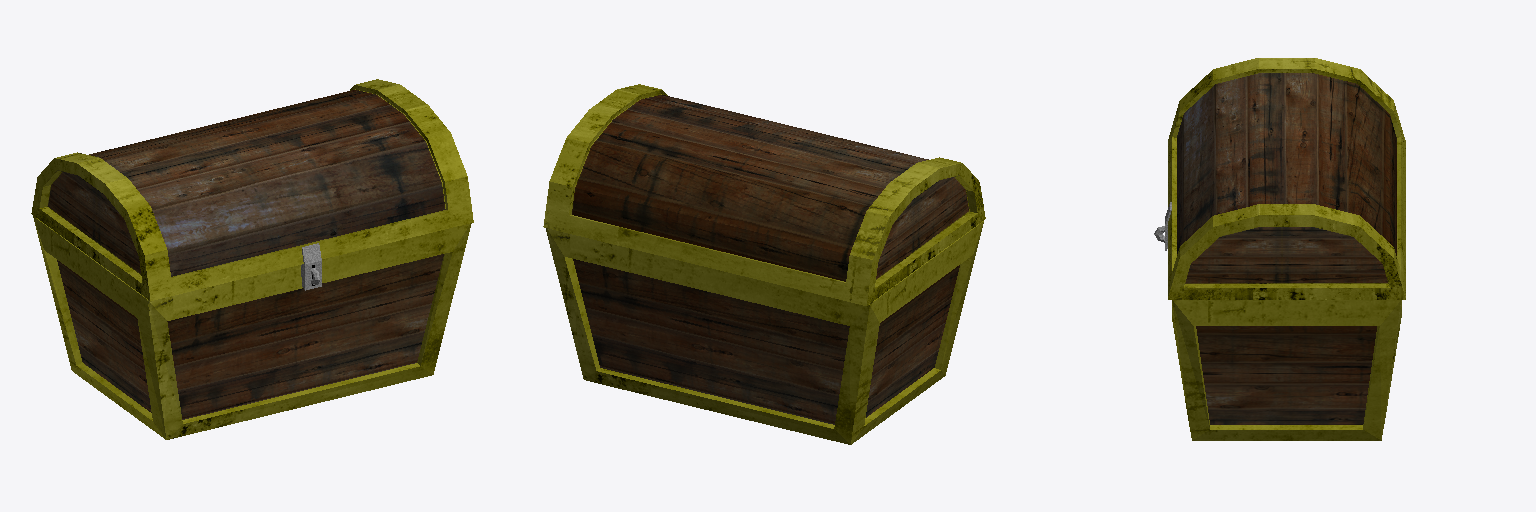
3 views of the same model, side by side, from view 1: azimuth 30°, elevation 25°; view 2: azimuth 150°, elevation 25°; view 3: azimuth 270°, elevation 25° (orthographic).
Visible parts, largest first — view 1: lid, chest; view 2: lid, chest; view 3: lid, chest.
Part boxes in pixels (x1,y1,x2,y2): lid: (31, 79, 473, 300); chest: (33, 216, 471, 439); lid: (543, 84, 985, 305); chest: (546, 221, 983, 444); lid: (1165, 58, 1405, 299); chest: (1154, 224, 1401, 440).
Size of the model in its own units: 65.08 by 45.74 by 43.69.
1 materials, 1 textured.